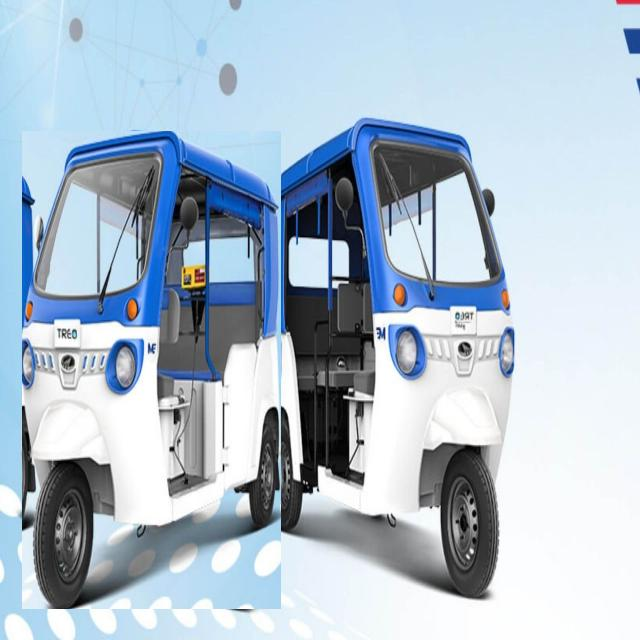autorickshaw: (22, 131, 280, 609), (270, 118, 515, 597)
